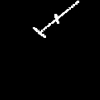double_crochet: (33, 1, 78, 37)
